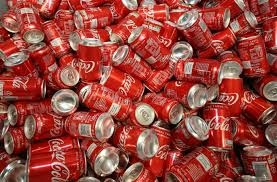metal: (21, 135, 90, 182), (76, 78, 133, 123), (162, 142, 226, 182), (107, 115, 160, 163), (63, 106, 119, 148), (70, 34, 113, 88), (230, 32, 277, 80), (72, 132, 121, 178), (125, 23, 174, 69), (199, 97, 237, 155), (20, 108, 75, 145), (232, 83, 277, 126), (172, 9, 217, 51), (109, 43, 155, 82), (172, 54, 226, 87), (170, 110, 211, 153), (6, 97, 59, 130), (223, 109, 266, 148), (100, 66, 145, 103), (1, 69, 48, 104), (165, 78, 214, 111), (143, 91, 188, 125), (24, 39, 64, 77), (195, 23, 237, 56), (2, 50, 40, 86), (13, 5, 47, 45), (2, 125, 38, 162), (72, 4, 114, 33), (44, 62, 82, 90), (229, 8, 261, 41), (254, 76, 277, 106)
